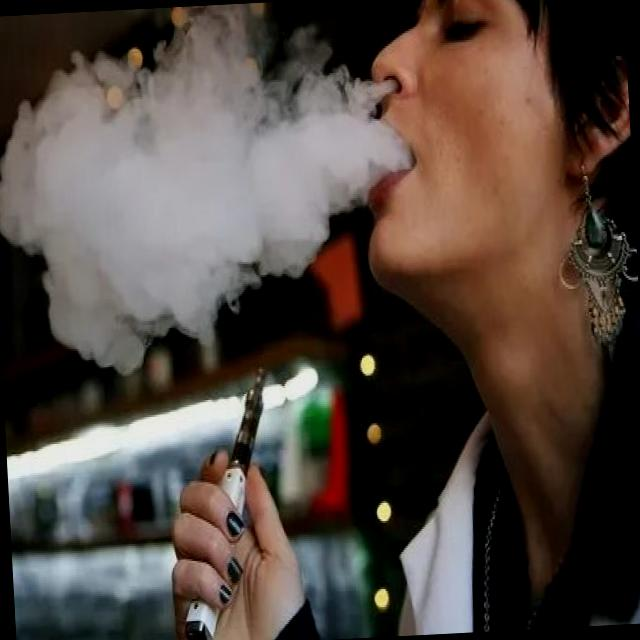cigarette: (170, 362, 291, 640)
